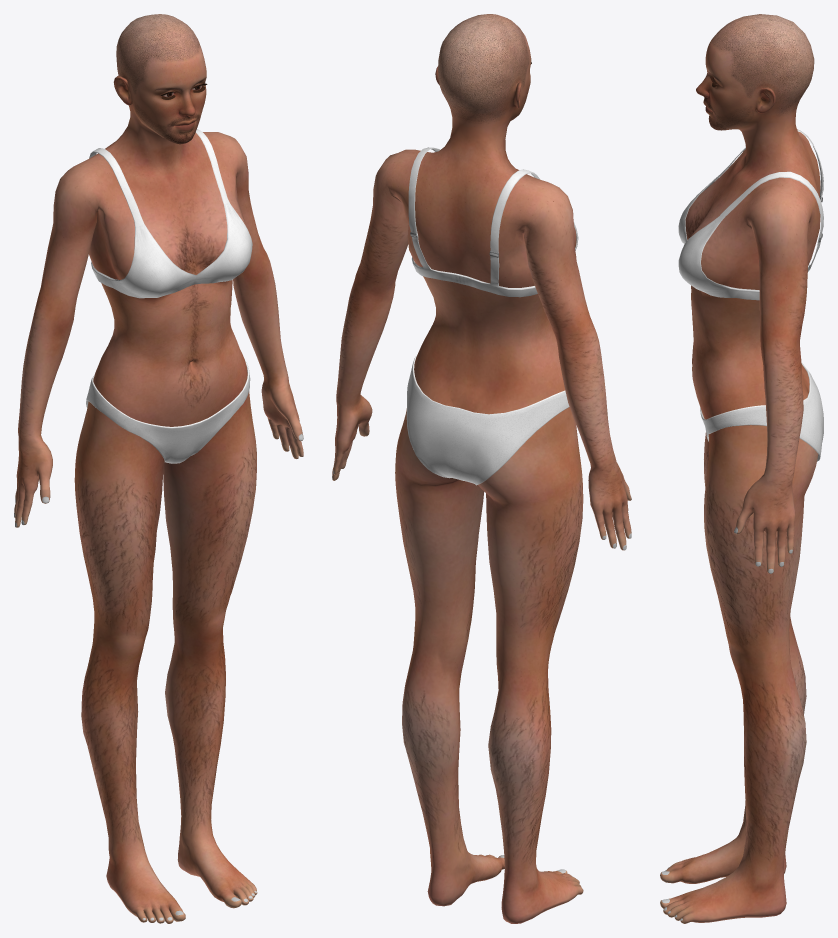
File: womanBra.obj
3 renders of one model, left to right at view 1: azimuth 30°, elevation 25°; view 2: azimuth 150°, elevation 25°; view 3: azimuth 270°, elevation 25°, orthographic. The views are drawn at different scales.
Parts seen in each view (by area): view 1: CC_Base_Body, Bra, Underwear Bottoms; view 2: CC_Base_Body, Underwear Bottoms, Bra; view 3: CC_Base_Body, Bra, Underwear Bottoms.
Boxes of the visible parts, x1,y1,x2,y2 form: CC_Base_Body: (14,14,303,923); Bra: (89,129,252,298); Underwear Bottoms: (86,360,250,463); CC_Base_Body: (332,14,631,923); Underwear Bottoms: (406,356,569,485); Bra: (408,147,578,297); CC_Base_Body: (660,14,820,923); Bra: (678,129,823,300); Underwear Bottoms: (700,362,823,461).
Bounding box in the file's own units: 61.64 × 179 × 30.32.
